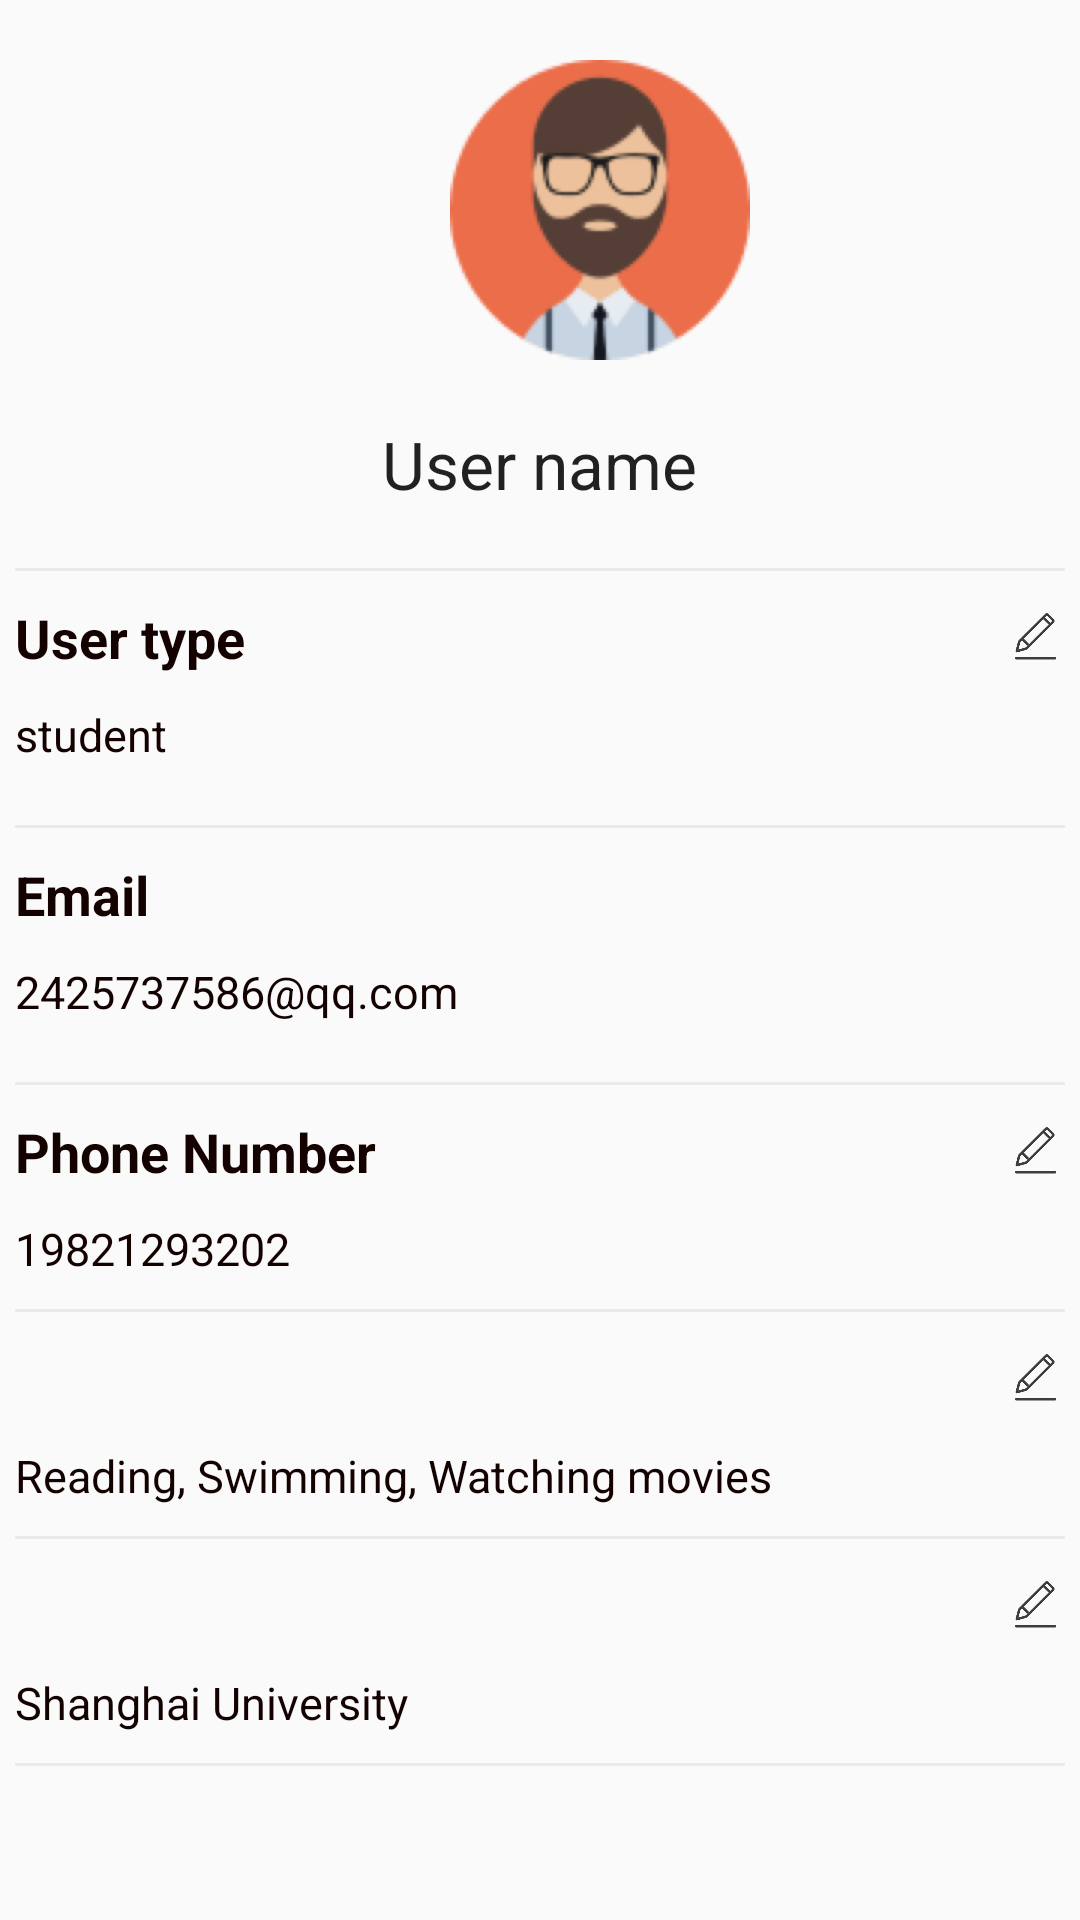

Screen size 1080 × 1920. Icon name, then its center in pixels as point (x, y):
Edit experience: point (1035, 1604)
Edit intro: point (1035, 1377)
